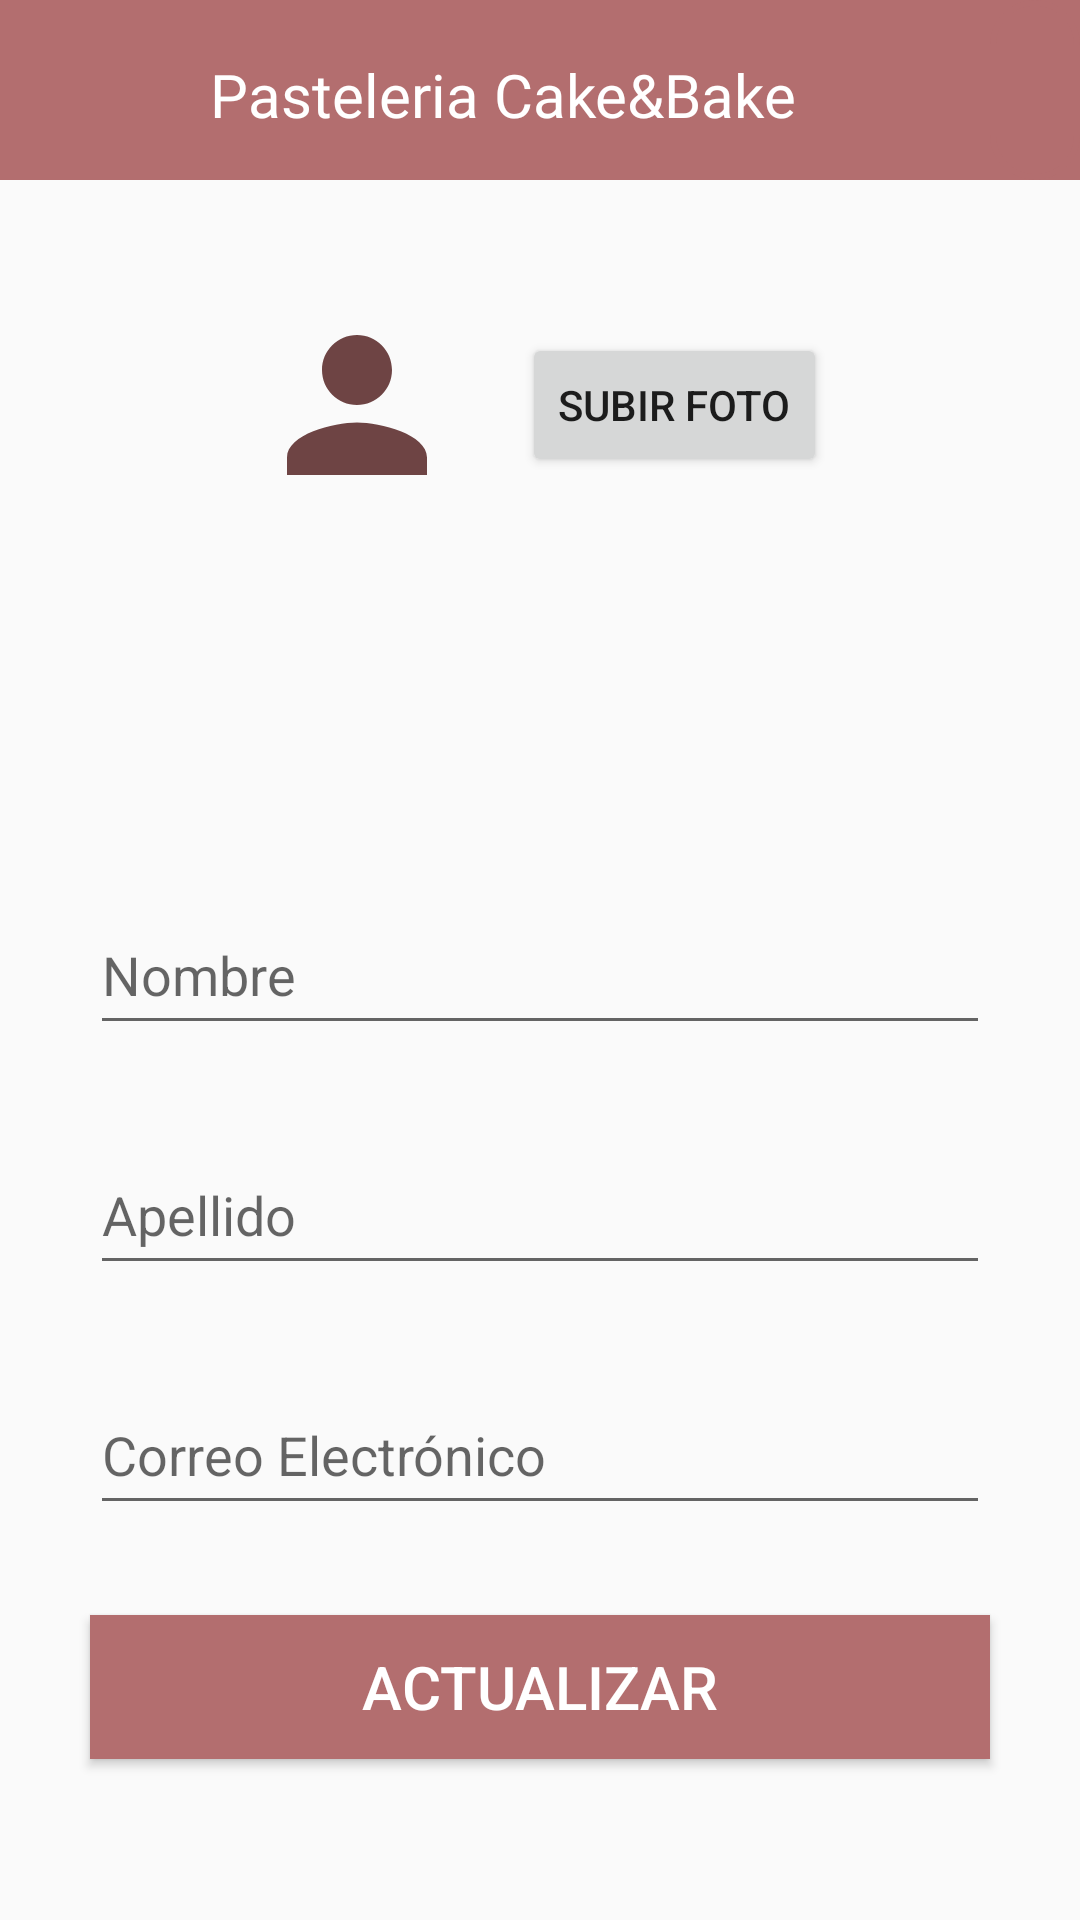

Icons on this 1080x1920 Android screen, each with the point to tap as (x,y):
person: (357,405)
